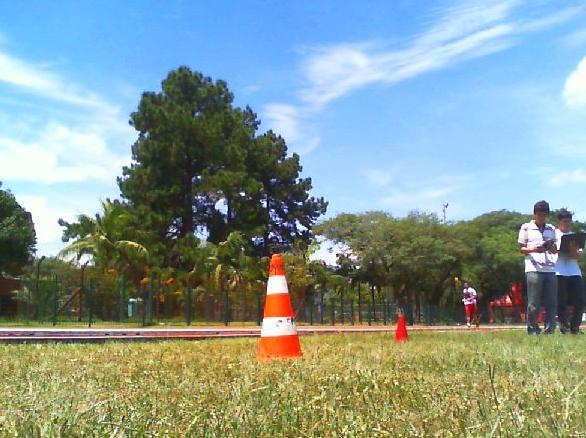0 cone: (259, 254, 301, 363), (393, 314, 409, 342)
